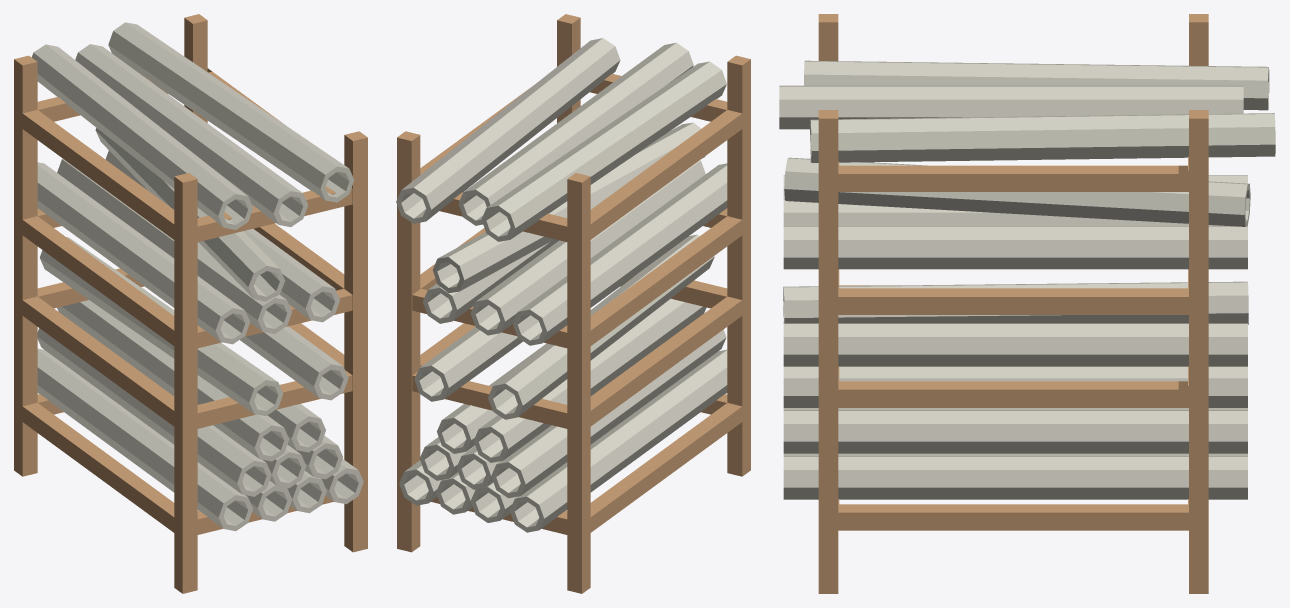
The model's file is Env_3.fbx.
The picture shows the model from 3 angles, left to right: view 1: azimuth 30°, elevation 25°; view 2: azimuth 150°, elevation 25°; view 3: azimuth 270°, elevation 25°; orthographic projection. The views are drawn at different scales.
Parts seen in each view (by area): view 1: Pipe, SCAFFOLD; view 2: Pipe, SCAFFOLD; view 3: Pipe, SCAFFOLD.
Boxes of the visible parts, <box> form: Pipe: <box>31,22,363,531</box>; SCAFFOLD: <box>14,14,367,593</box>; Pipe: <box>396,38,727,532</box>; SCAFFOLD: <box>397,14,750,593</box>; Pipe: <box>779,60,1275,499</box>; SCAFFOLD: <box>818,14,1208,593</box>.
Size of the model in its own units: 105 by 223 by 211.
